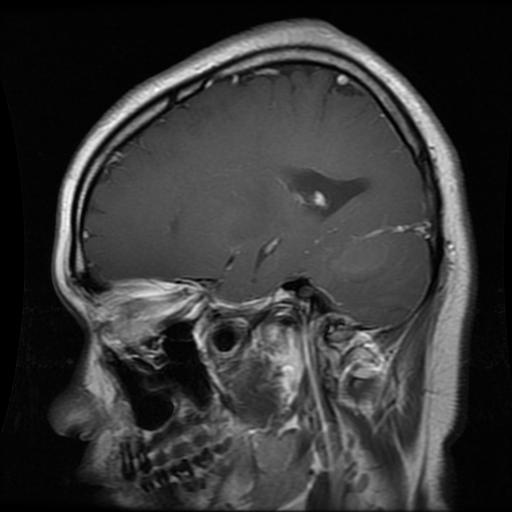Gliomia_tumour: (288, 167, 368, 219)
